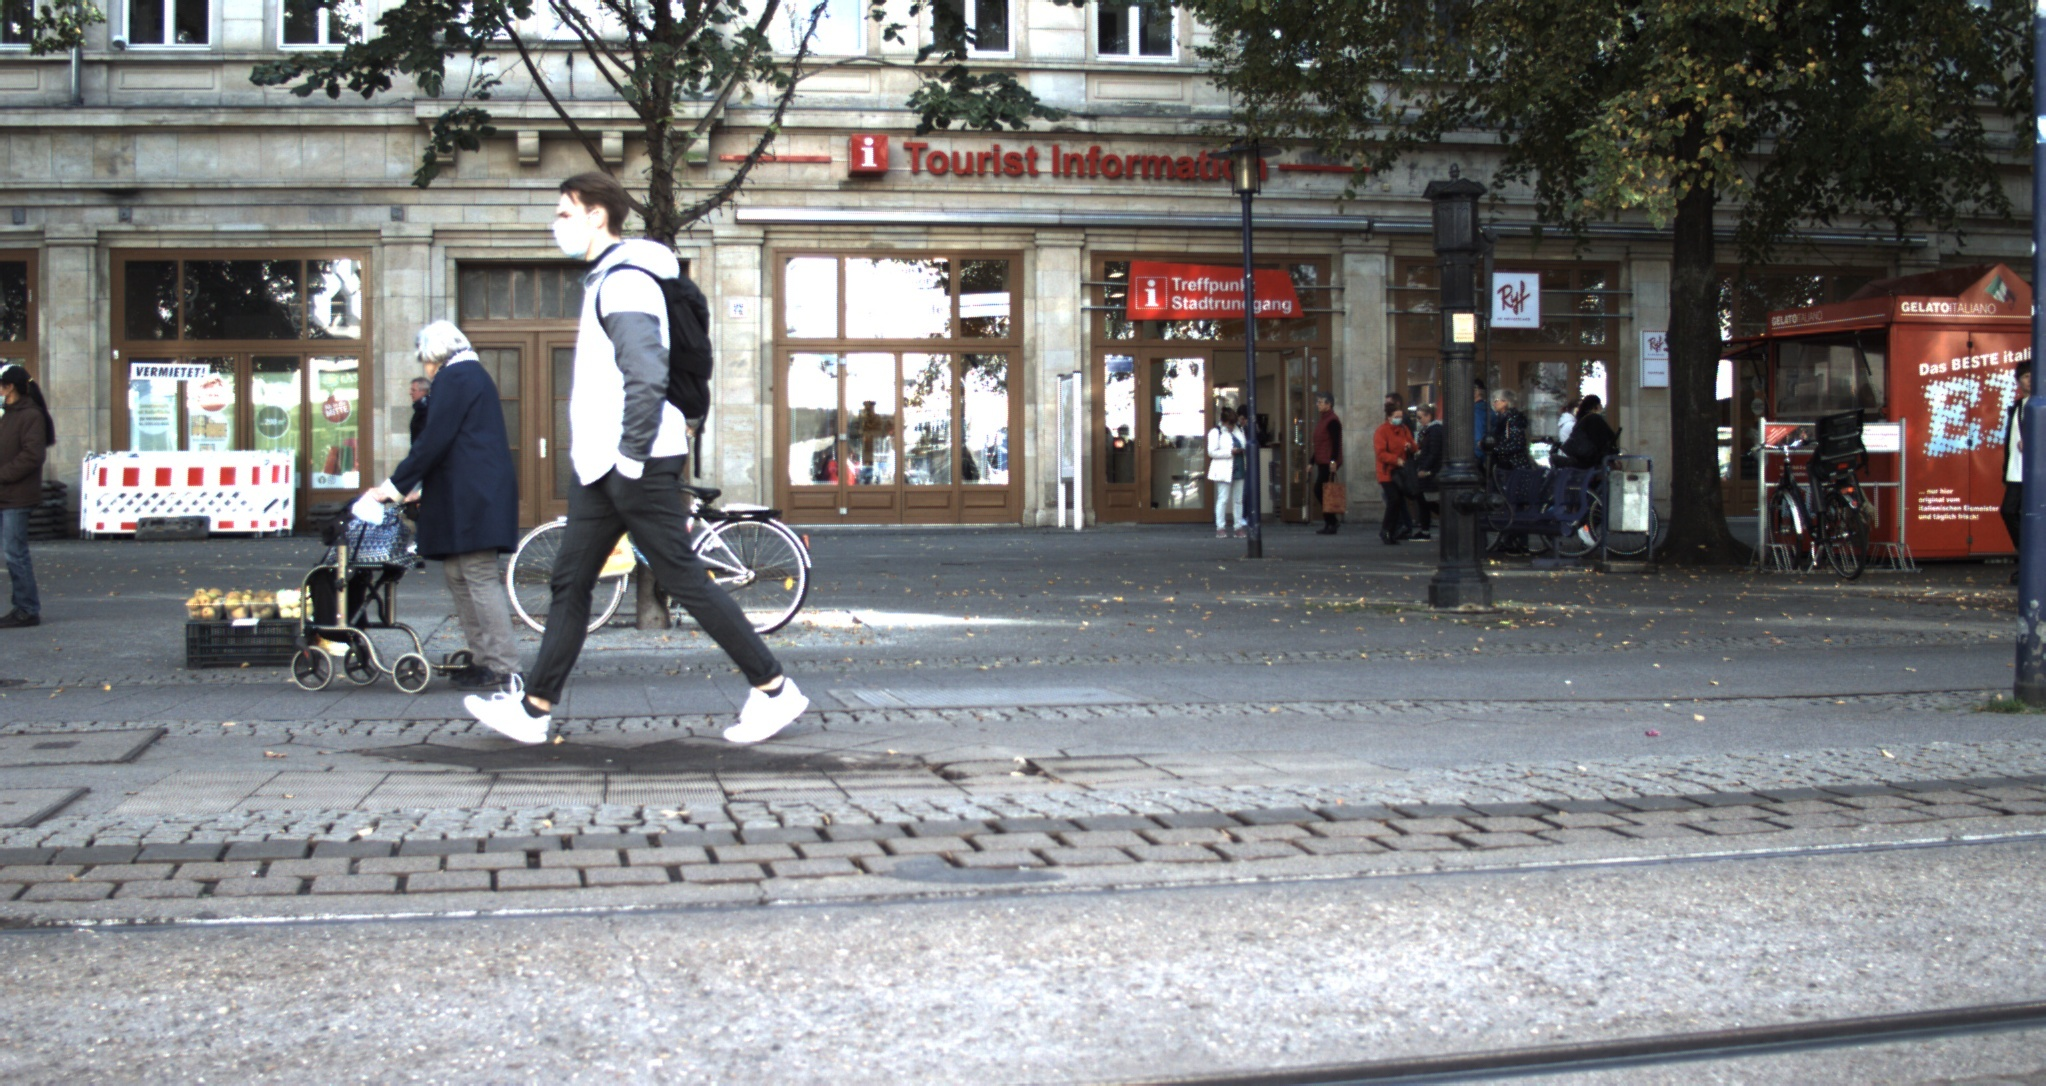adult without baby buggy or mobility support: (462, 169, 811, 745), (0, 362, 56, 628), (1372, 401, 1420, 544), (1204, 405, 1248, 539), (1304, 392, 1344, 535)
bicycle without cyclist: (507, 483, 815, 640), (1746, 406, 1868, 580)
person with baby buggy: (291, 317, 523, 690)
person with mobility support: (1489, 388, 1601, 557)
